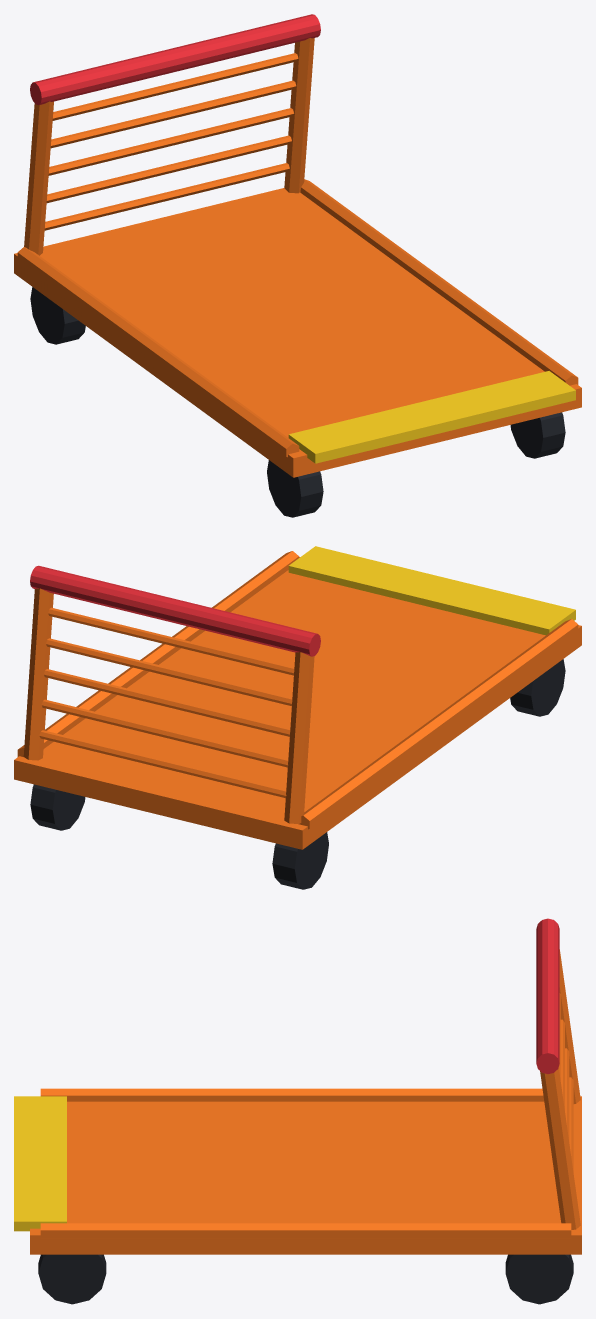
File: cart-flatbed.glb
The picture shows the model from 3 angles, top to bottom: view 1: azimuth 30°, elevation 25°; view 2: azimuth 150°, elevation 25°; view 3: azimuth 270°, elevation 25°; orthographic projection.
Parts seen in each view (by area): view 1: cart-flatbed; view 2: cart-flatbed; view 3: cart-flatbed.
Part boxes in pixels (x1,y1,x2,y2): cart-flatbed: (14,14,581,517); cart-flatbed: (14,546,581,889); cart-flatbed: (14,918,581,1304).
Size of the model in its own units: 1.57 by 1.33 by 2.67.
